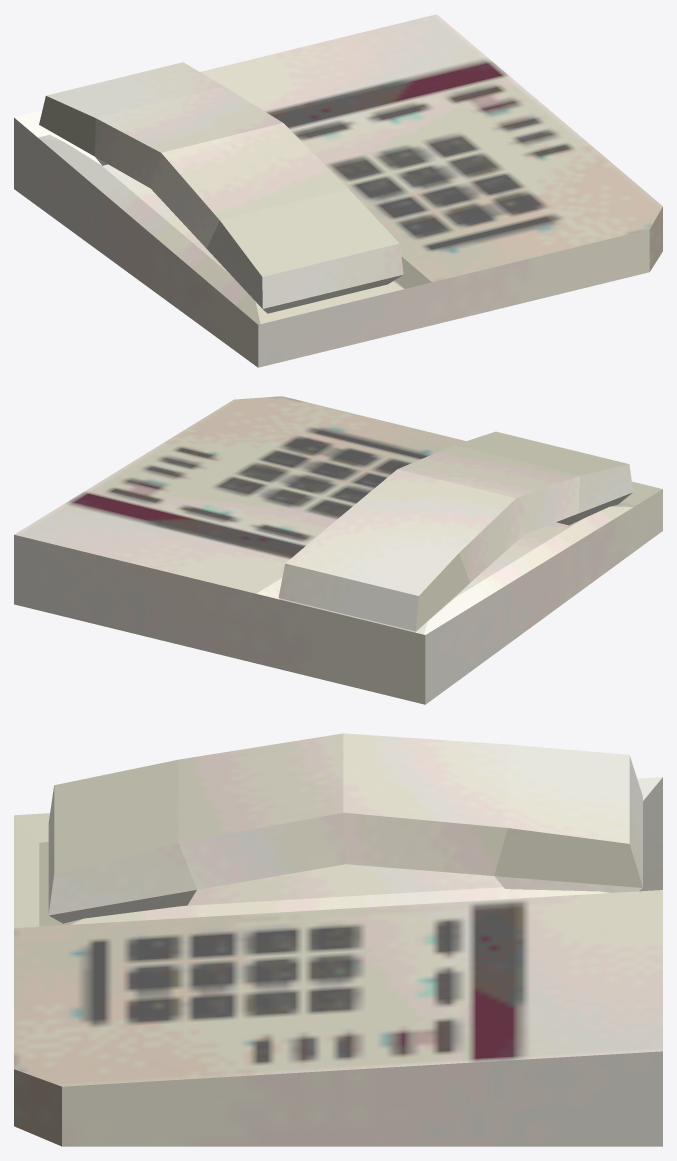
Rendered from desk_phone.fbx.
3 views of the same model, one above another, from view 1: azimuth 30°, elevation 25°; view 2: azimuth 150°, elevation 25°; view 3: azimuth 270°, elevation 25° (orthographic). The views are drawn at different scales.
Visible parts, largest first — view 1: desk_phone; view 2: desk_phone; view 3: desk_phone.
Boxes of the visible parts, x1,y1,x2,y2 form: desk_phone: (14,14,662,367); desk_phone: (14,396,662,704); desk_phone: (14,733,662,1146).
Size of the model in its own units: 33.28 by 8.85 by 33.28.
Materials: 1 (1 with a texture image).
